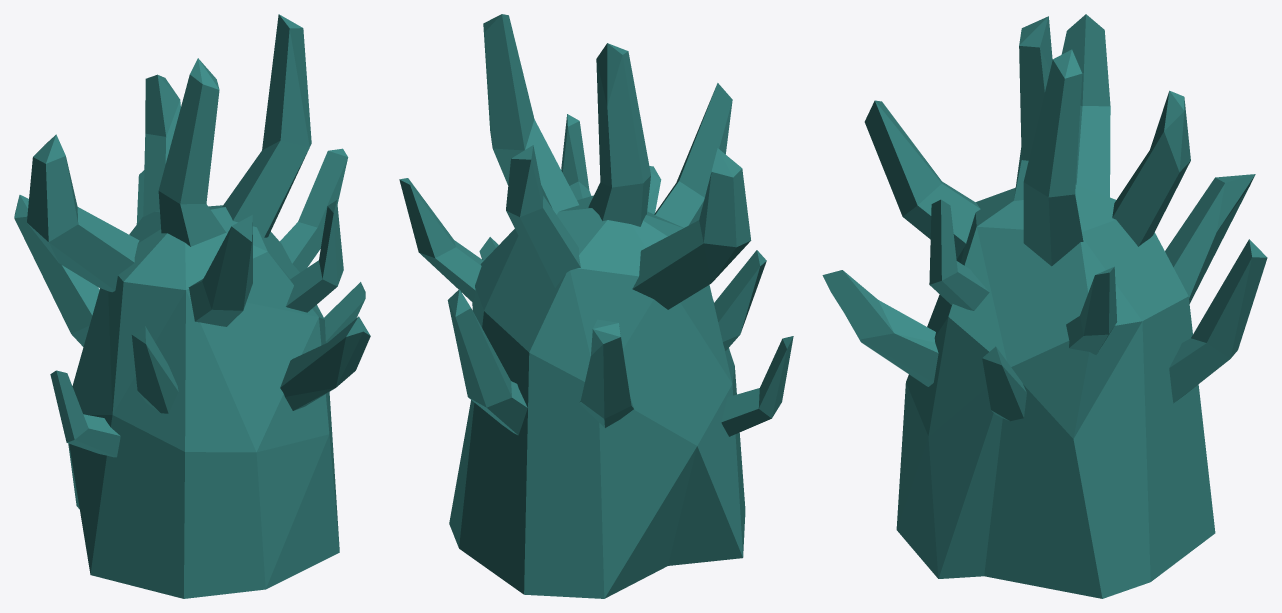
File: SM_Coral_Staghorn_C.fbx
3 views of the same model, side by side, from view 1: azimuth 30°, elevation 25°; view 2: azimuth 150°, elevation 25°; view 3: azimuth 270°, elevation 25° (orthographic). The views are drawn at different scales.
Parts seen in each view (by area): view 1: coral-staghorn-c; view 2: coral-staghorn-c; view 3: coral-staghorn-c.
Boxes of the visible parts, x1,y1,x2,y2 form: coral-staghorn-c: [14, 14, 370, 598]; coral-staghorn-c: [399, 14, 793, 598]; coral-staghorn-c: [822, 14, 1267, 598].
Bounding box in the file's own units: 0.4875 × 0.6863 × 0.5222.
